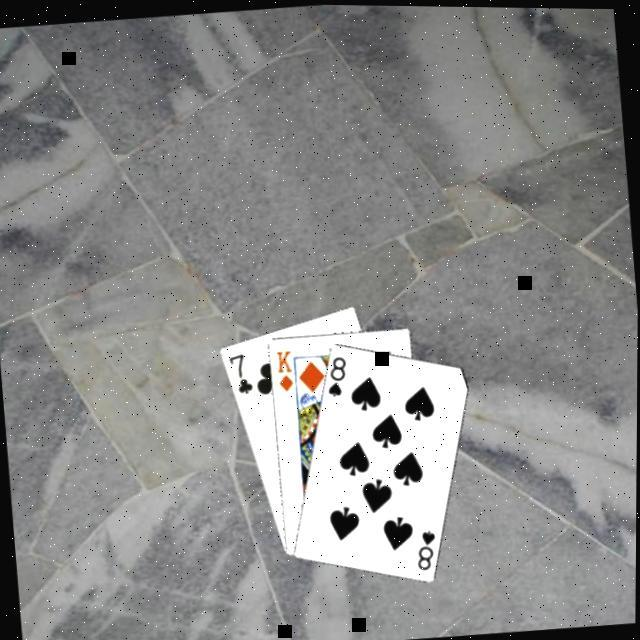7C: (224, 349, 256, 398)
8S: (321, 352, 352, 399), (411, 525, 441, 573)
KD: (272, 346, 296, 394)
